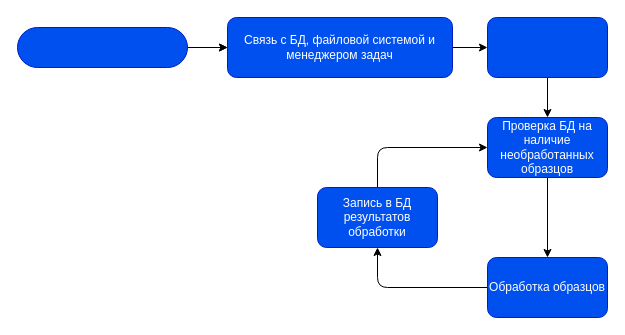
The diagram is 625 pixels wide and 335 high, and some of its shapes have lost their labels. The box of each missing label's shape, as (x1, y1, x2, y2) in pixels:
Запуск вотчдога: (486, 16, 608, 78)
Запуск программы: (16, 26, 188, 68)
